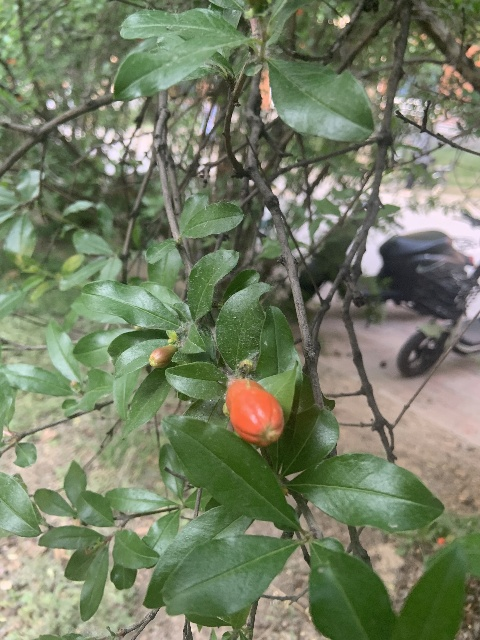bud: (225, 378, 284, 446), (149, 345, 176, 367)
